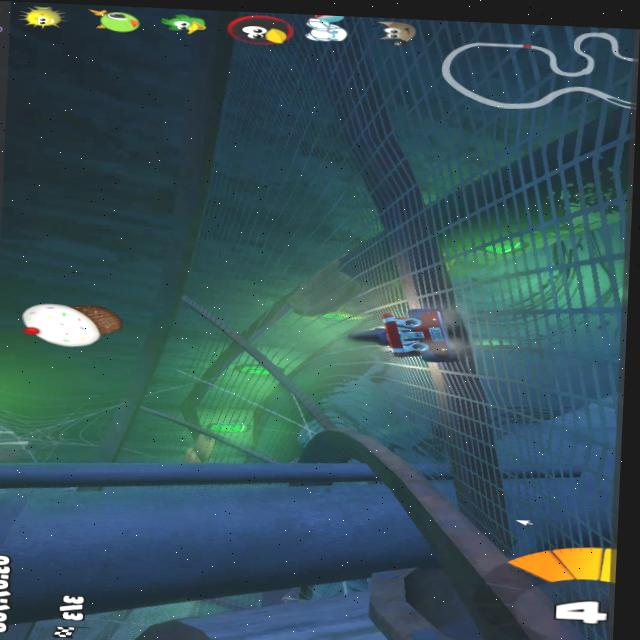player_kart: (349, 306, 465, 367)
track: (225, 11, 640, 314), (454, 309, 627, 544), (152, 334, 279, 463), (288, 356, 461, 435), (502, 540, 614, 617), (188, 260, 270, 340), (266, 298, 340, 358), (137, 438, 156, 460)
